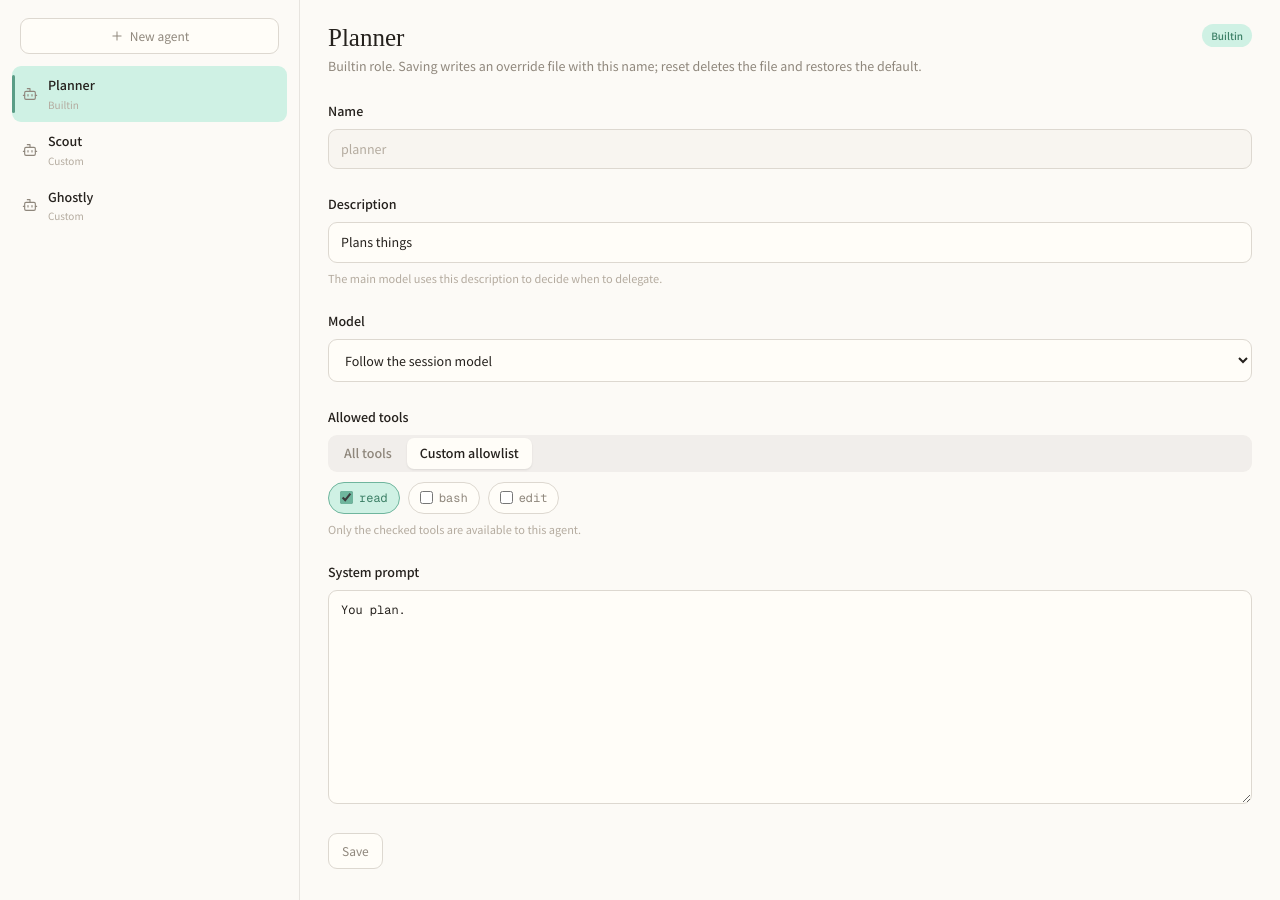
Test: SubagentsPanel › cancel in the confirm dialog leaves the agent alone
Click the text "Scout".
click(65, 140)  # box top-left (48, 131), bottom-right (82, 150)
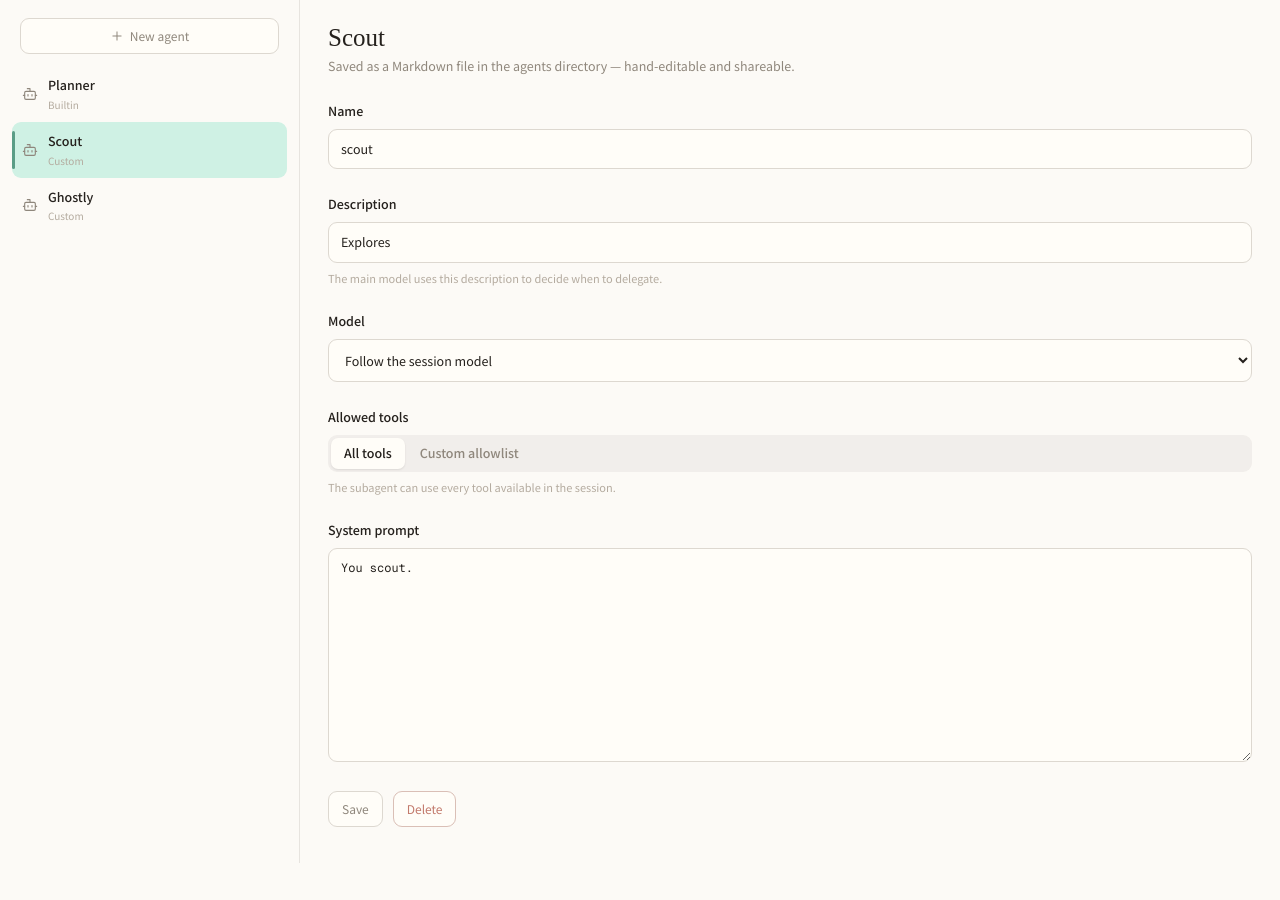
Click the button "Delete".
click(425, 809)  # box top-left (393, 791), bottom-right (456, 827)
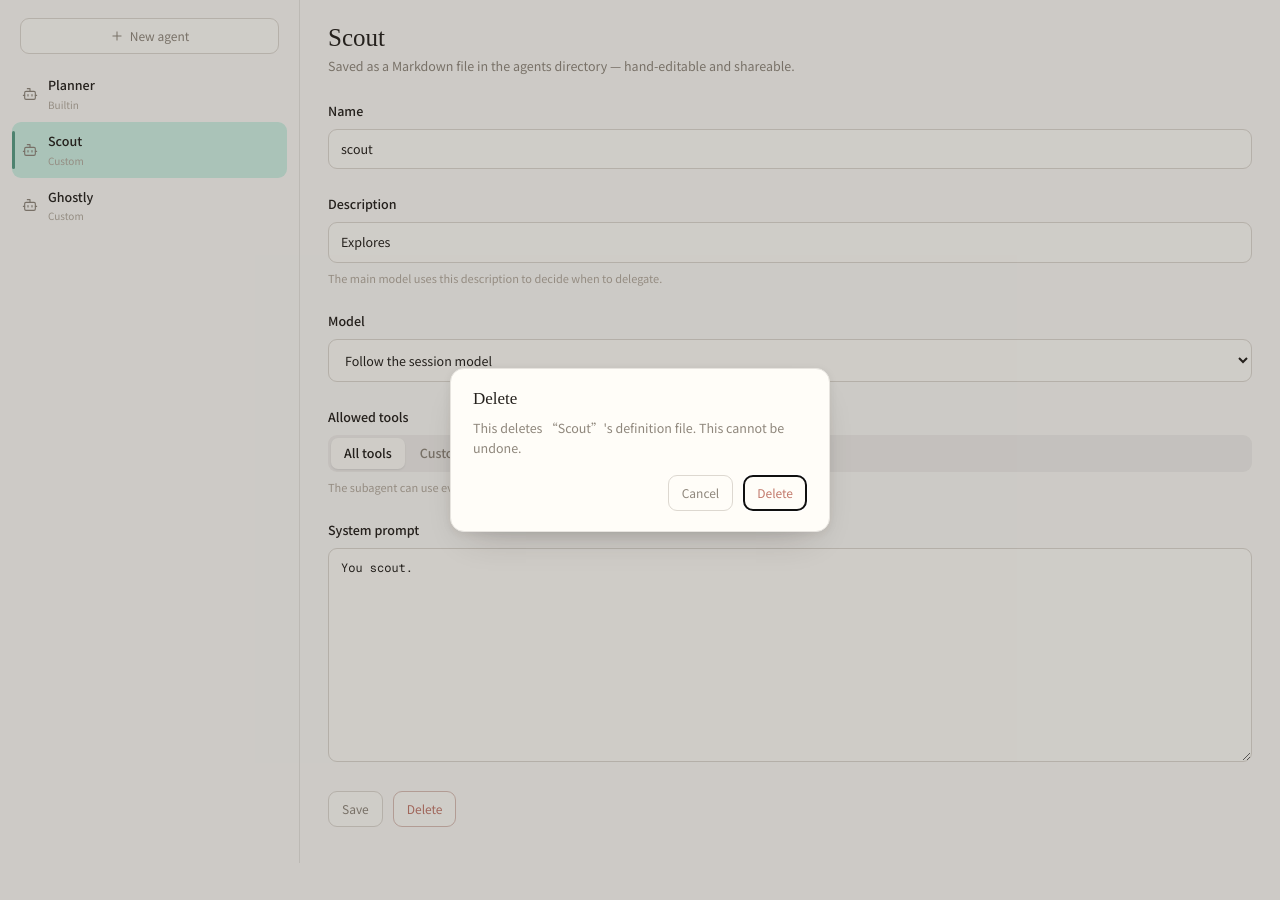
Click the button "Cancel".
click(700, 493)  # box top-left (668, 475), bottom-right (733, 511)
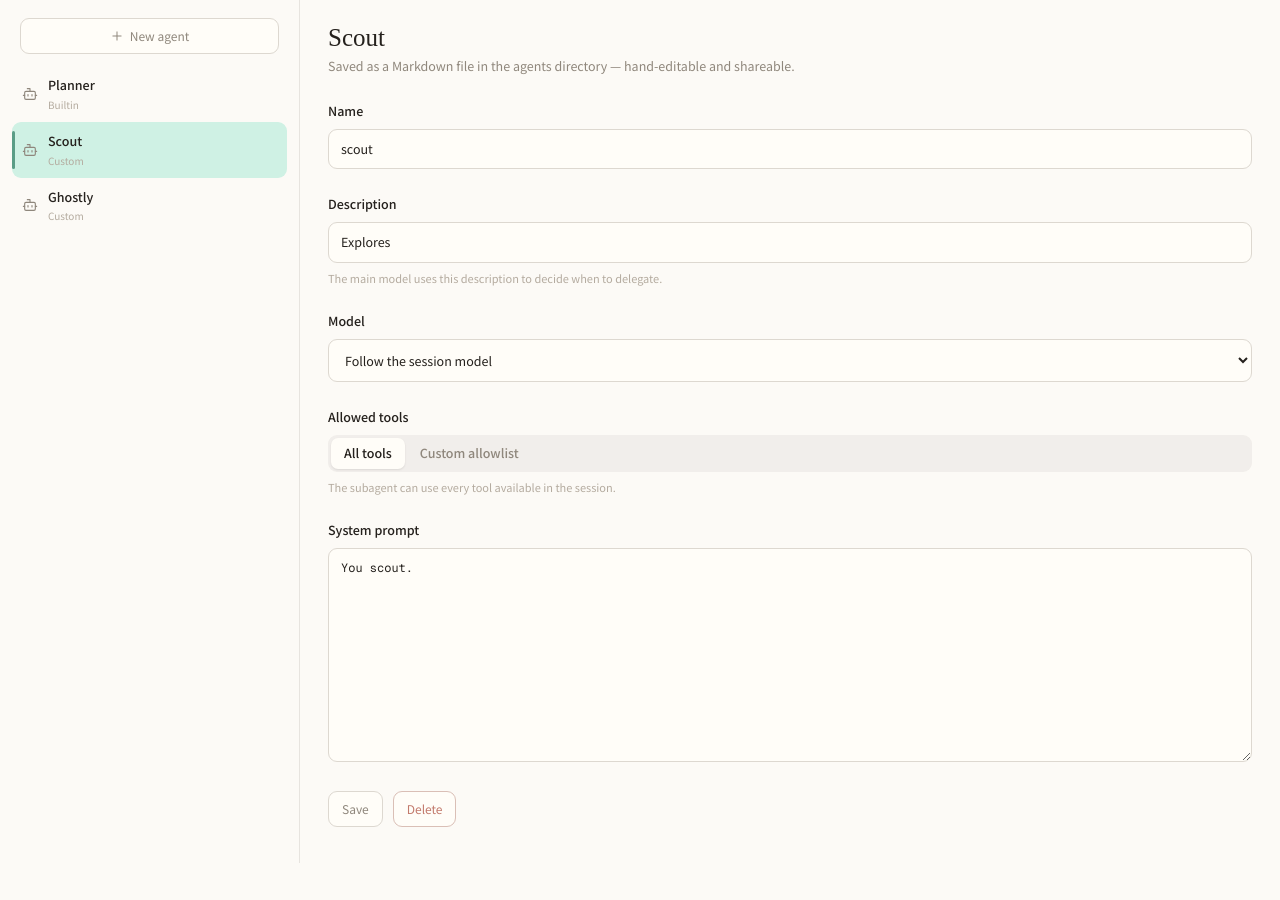
Now the dialog is gone
